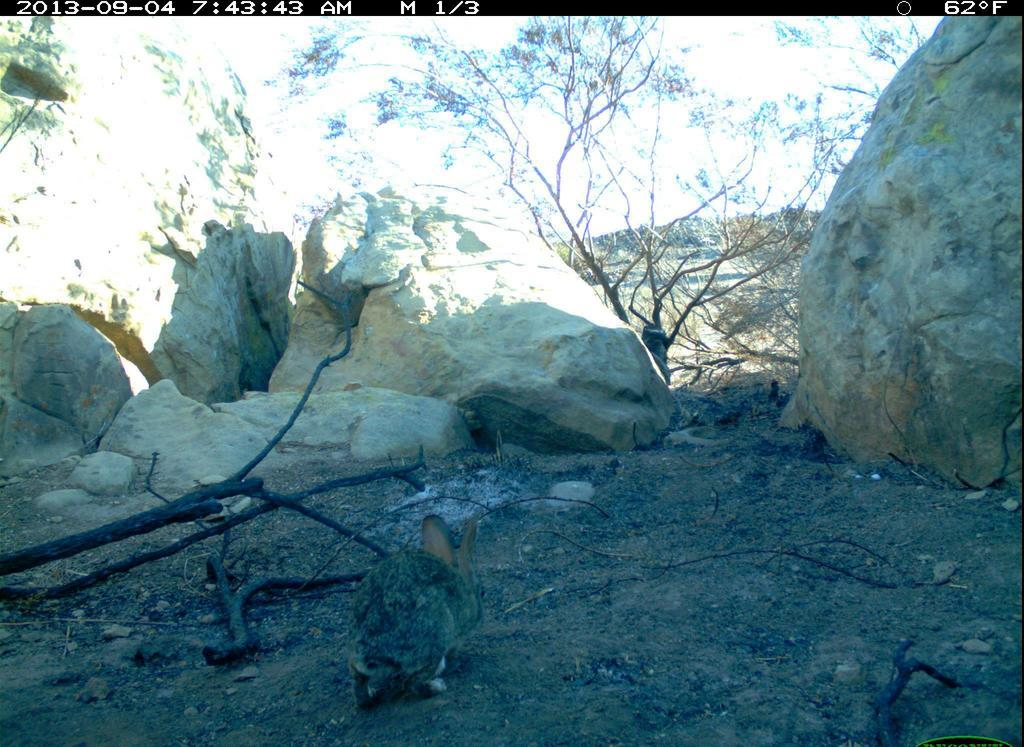rabbit: (344, 507, 493, 716)
